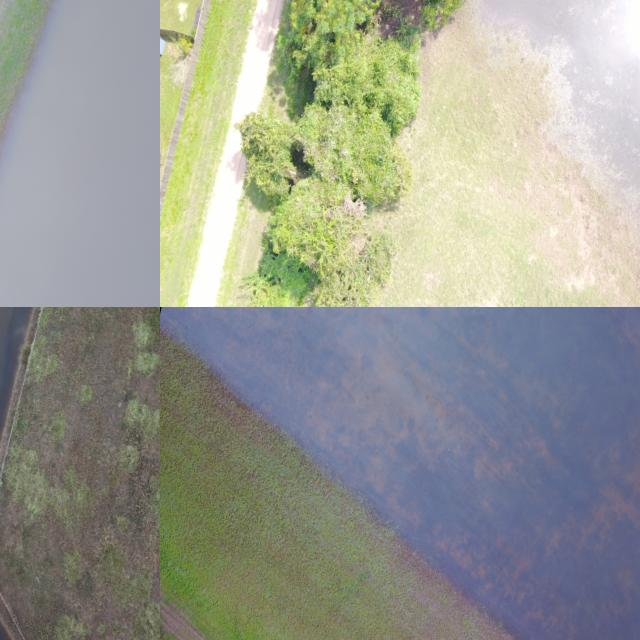fire: (160, 307, 640, 640), (0, 0, 160, 307), (476, 0, 640, 217)
